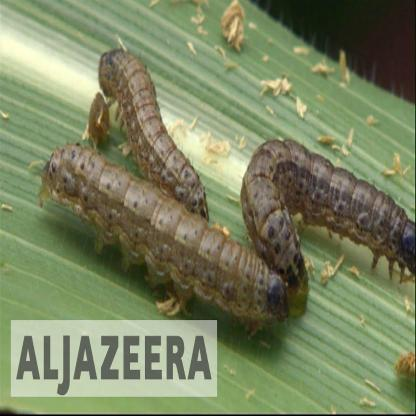armyworm: (38, 124, 293, 324), (246, 122, 416, 312), (97, 45, 220, 230)
